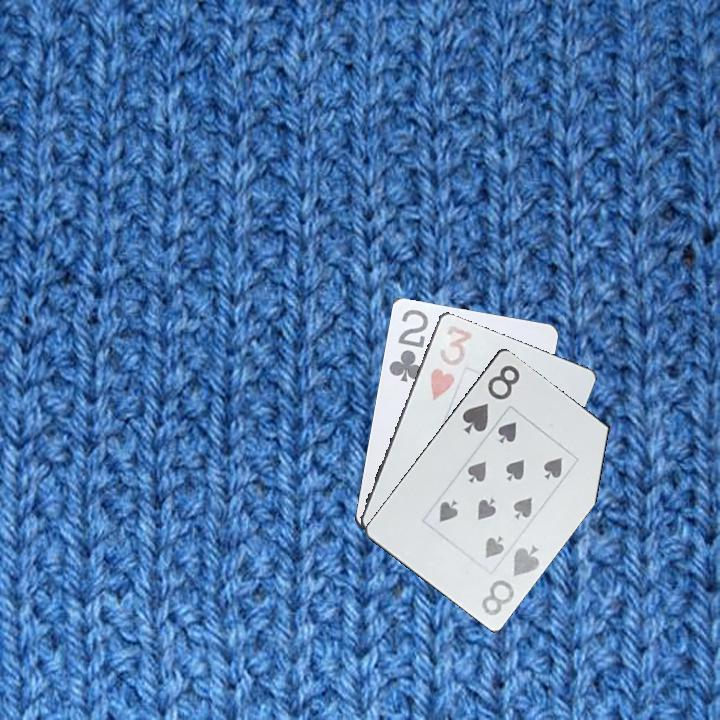2c: (385, 305, 431, 385)
3h: (426, 321, 475, 403)
8s: (478, 541, 543, 618), (458, 361, 523, 436)
